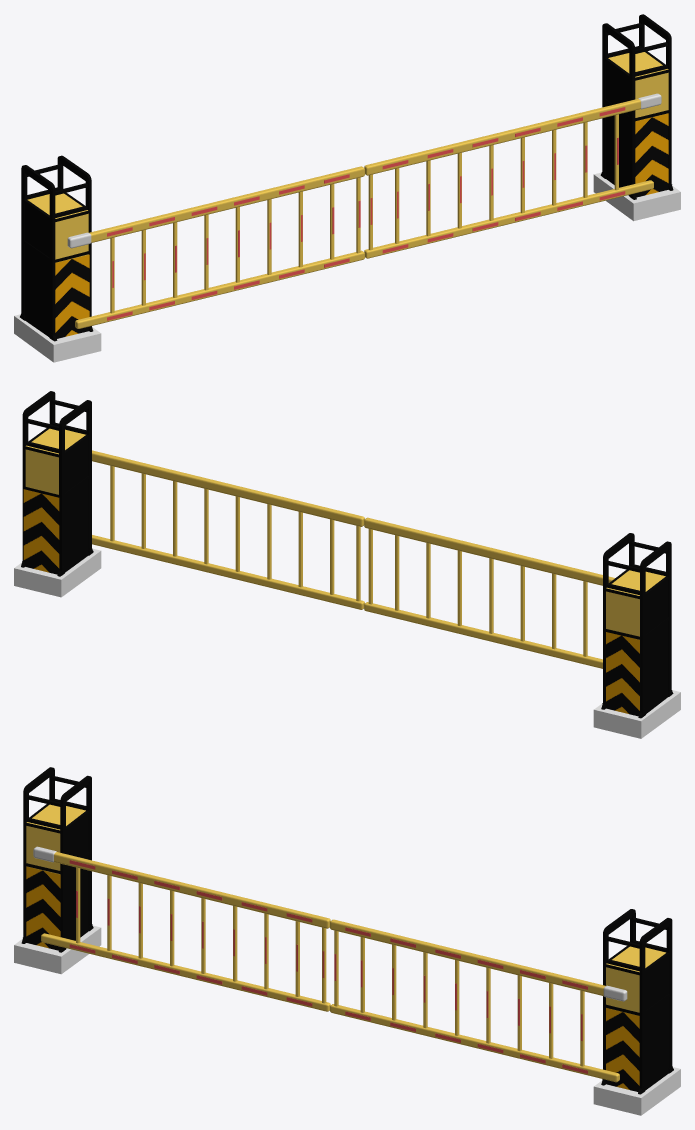
Rendered from damenhuangse.glb.
3 renders of one model, top to bottom at view 1: azimuth 30°, elevation 25°; view 2: azimuth 150°, elevation 25°; view 3: azimuth 330°, elevation 25°, orthographic.
Visible parts, largest first — view 1: Box14761, Box14760, Rectangle6212, Rectangle6246, Plane002, Rectangle6244, Rectangle6210, Plane001, Rectangle6217, Rectangle6148, 对象031, 对象30; view 2: Box14760, Box14761, Rectangle6212, Plane005, Rectangle6246, Rectangle6210, Plane006, Rectangle6244, Rectangle6148, 对象031, Rectangle6217, 对象30; view 3: Box14760, Box14761, Rectangle6246, Rectangle6212, Plane002, Plane001, Rectangle6210, Rectangle6244, Rectangle6148, Rectangle6217, 对象30, 对象031.
Boxes of the visible parts, bbox=[...] form: Box14761: bbox=[20, 155, 93, 341]; Box14760: bbox=[600, 14, 673, 199]; Rectangle6212: bbox=[364, 99, 640, 175]; Rectangle6246: bbox=[89, 166, 364, 242]; Plane002: bbox=[55, 254, 89, 338]; Rectangle6244: bbox=[75, 250, 364, 328]; Rectangle6210: bbox=[364, 180, 653, 258]; Plane001: bbox=[635, 113, 668, 197]; Rectangle6217: bbox=[14, 314, 101, 362]; Rectangle6148: bbox=[593, 172, 680, 221]; 对象031: bbox=[27, 193, 88, 262]; 对象30: bbox=[608, 52, 668, 120]; Box14760: bbox=[21, 391, 93, 576]; Box14761: bbox=[601, 533, 673, 718]; Rectangle6212: bbox=[92, 450, 364, 526]; Plane005: bbox=[23, 489, 59, 574]; Rectangle6246: bbox=[364, 517, 614, 585]; Rectangle6210: bbox=[92, 535, 364, 609]; Plane006: bbox=[606, 632, 639, 716]; Rectangle6244: bbox=[364, 602, 602, 668]; Rectangle6148: bbox=[14, 548, 101, 597]; 对象031: bbox=[606, 570, 665, 639]; Rectangle6217: bbox=[593, 690, 680, 738]; 对象30: bbox=[25, 428, 85, 494]; Box14760: bbox=[601, 909, 673, 1094]; Box14761: bbox=[21, 767, 93, 952]; Rectangle6246: bbox=[54, 852, 330, 928]; Rectangle6212: bbox=[330, 919, 605, 996]; Plane002: bbox=[26, 866, 60, 950]; Plane001: bbox=[606, 1008, 639, 1091]; Rectangle6210: bbox=[330, 1004, 619, 1082]; Rectangle6244: bbox=[41, 933, 330, 1011]; Rectangle6148: bbox=[593, 1067, 680, 1115]; Rectangle6217: bbox=[14, 925, 101, 974]; 对象30: bbox=[606, 946, 665, 1014]; 对象031: bbox=[26, 804, 85, 874].
Bounding box in the file's own units: 0.1092 × 0.0287 × 0.012.
Materials: 7 (1 with a texture image).
